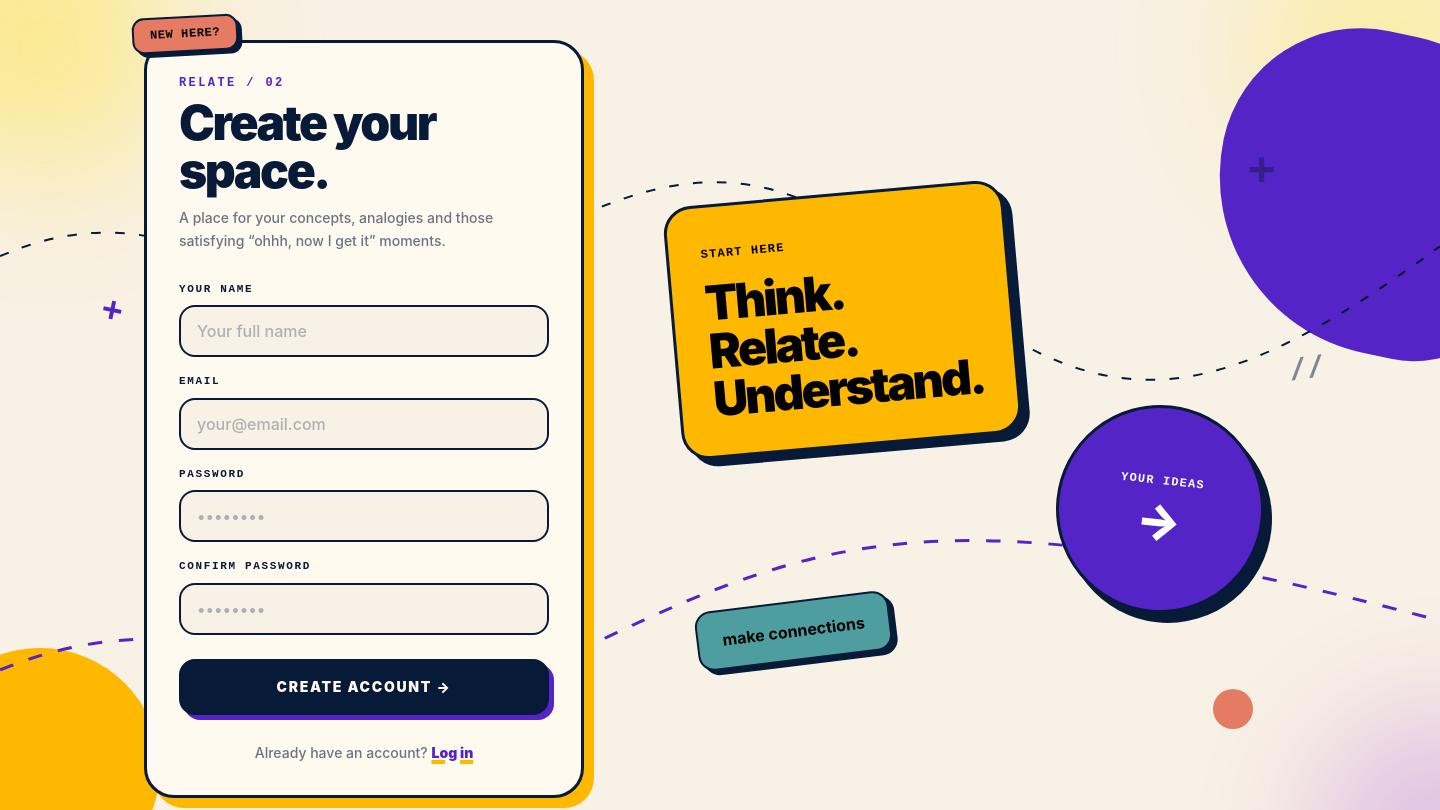
RegisterPage › inline validation - empty fields › should display inline error when name field is empty at submission
Type "test@test.com" into the field labelled "Email".
click(364, 424); type("test@test.com")  # box [179,398,549,450]
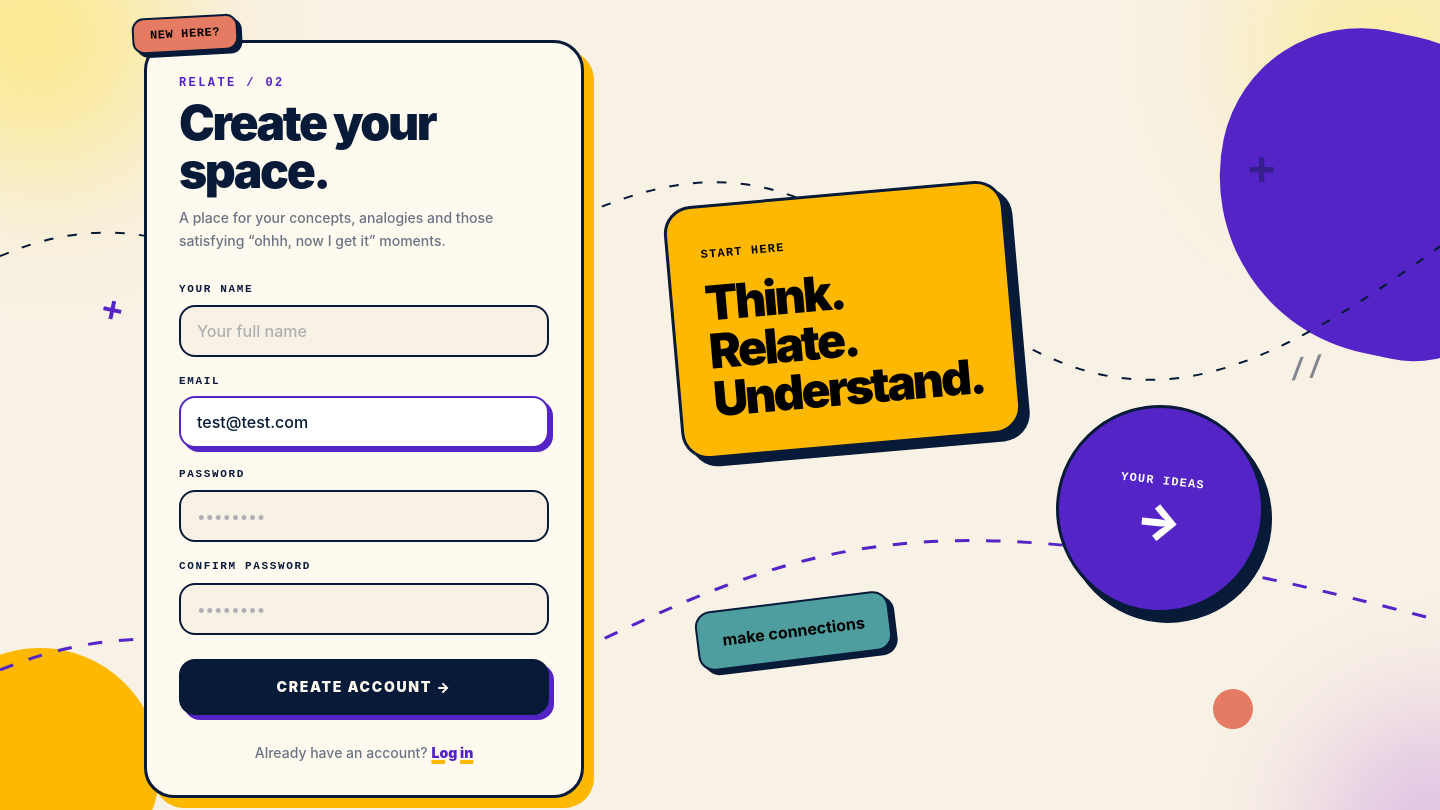
Type "password123" into the password field labelled "Password".
click(364, 516); type("password123")  # box [179,490,549,542]
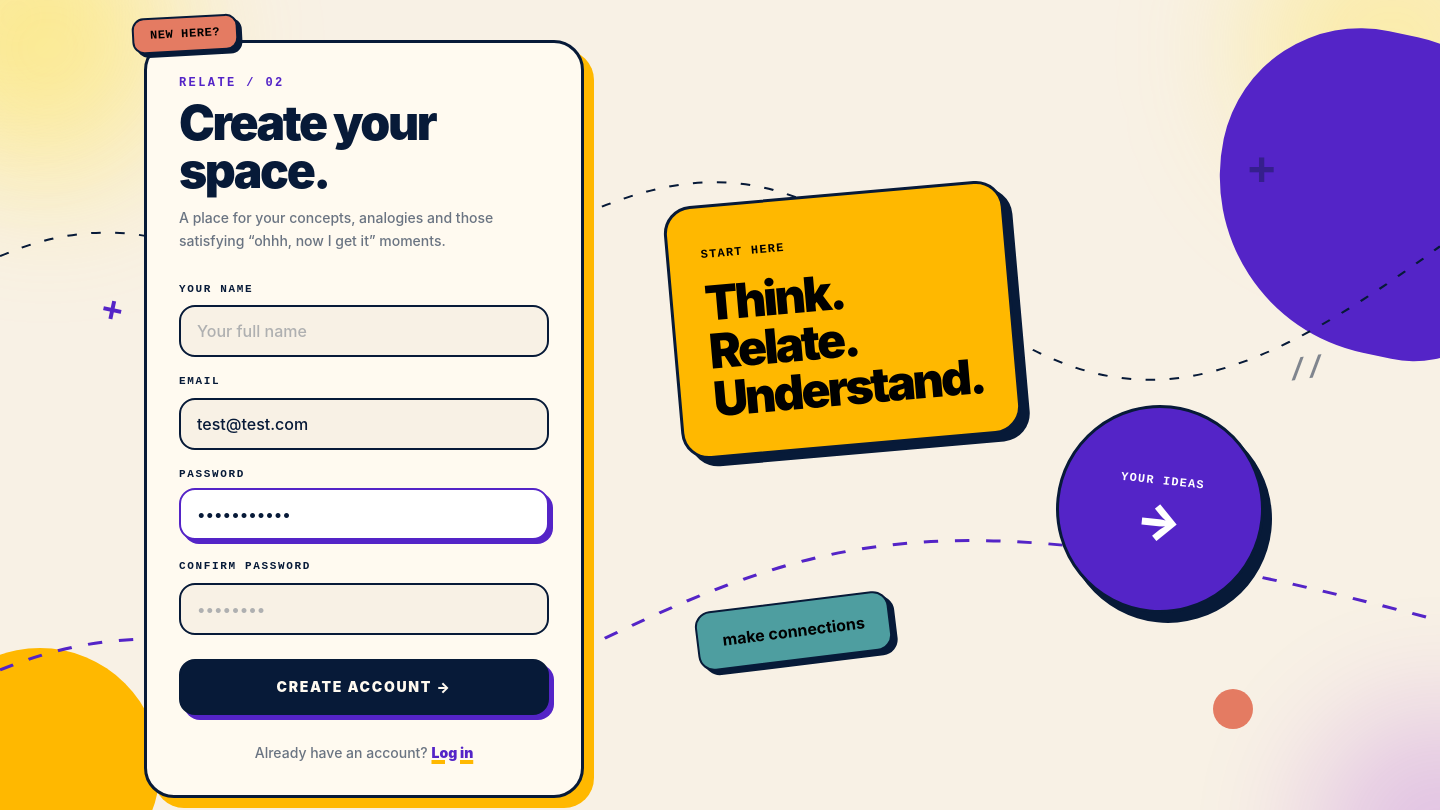
Type "password123" into the password field labelled "Confirm password".
click(364, 608); type("password123")  # box [179,582,549,634]
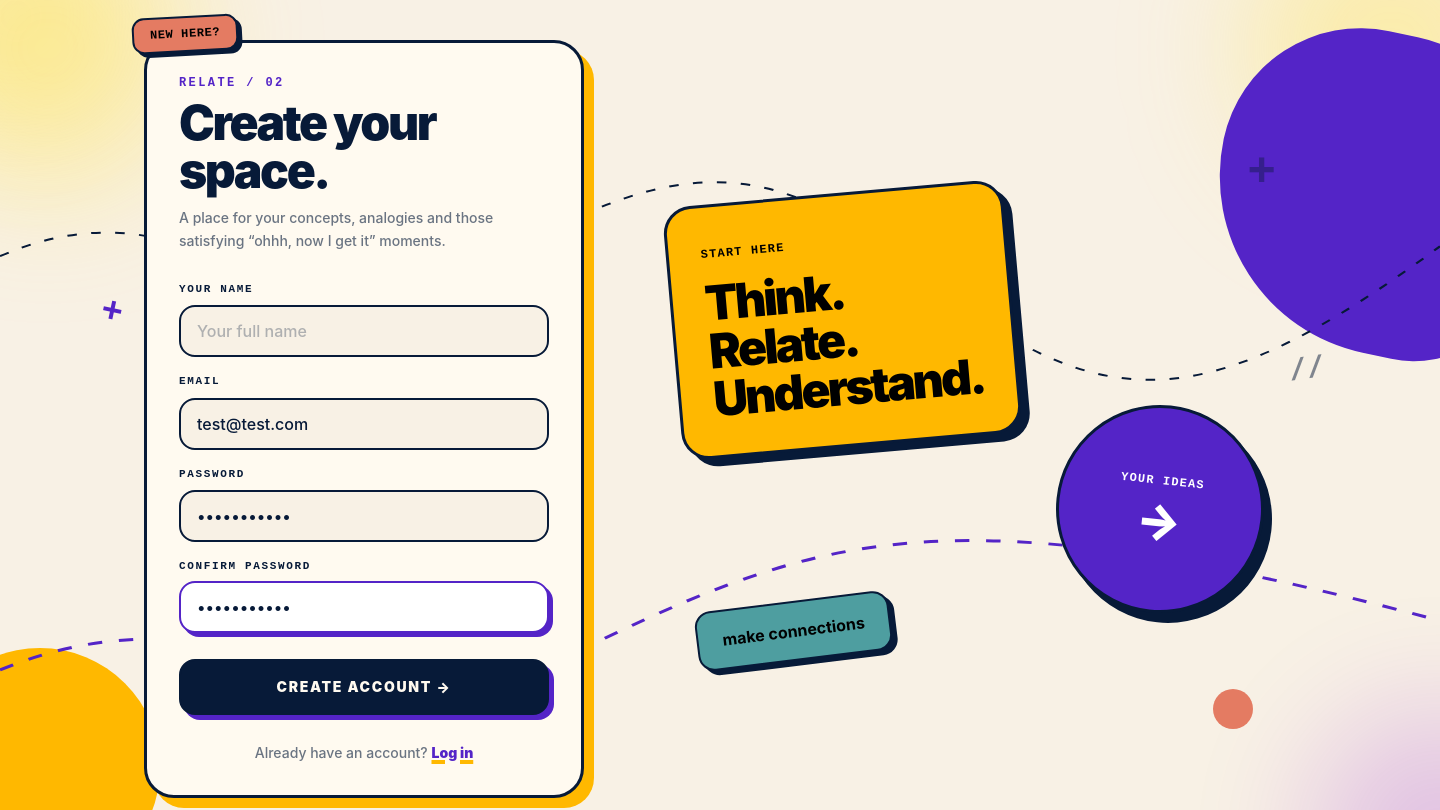
Click the button "Create account →".
click(364, 686)  # box [179,658,549,714]
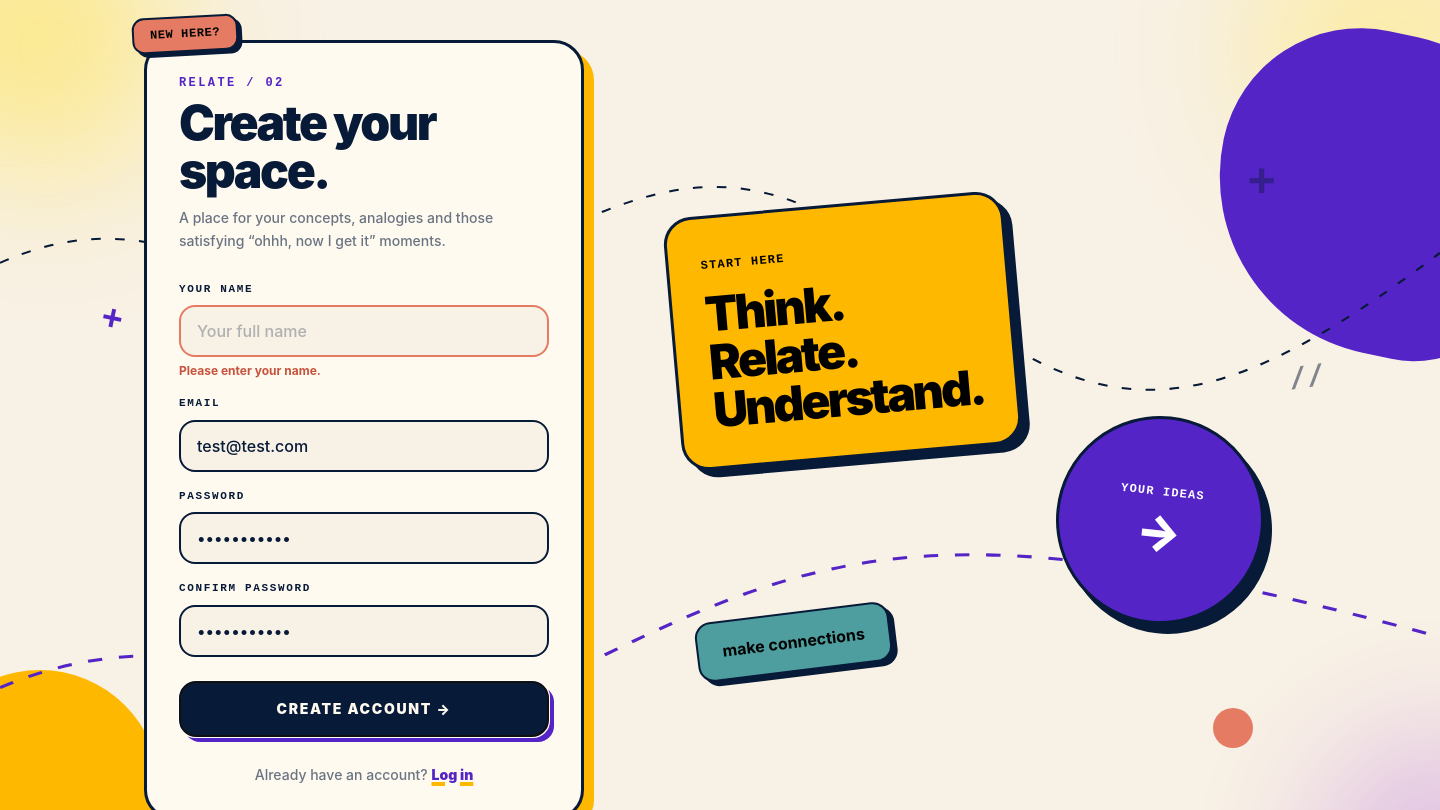
Check: the text "Please enter your name." is shown, box [179,363,321,378]
